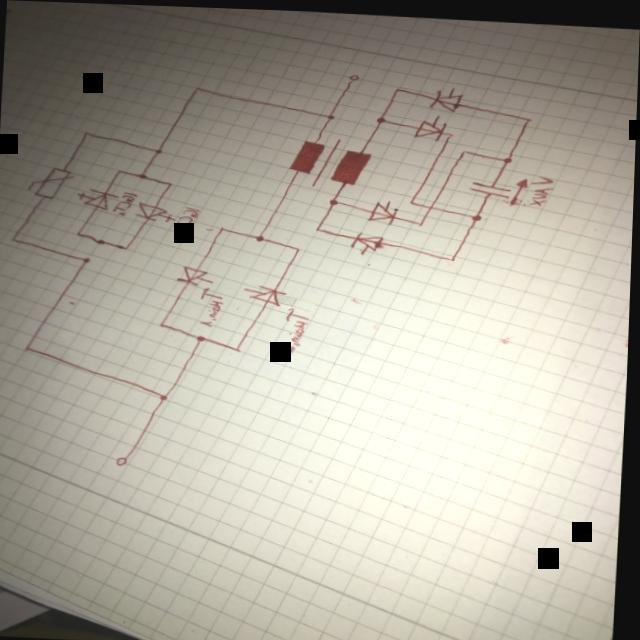capacitor: (466, 176, 511, 194)
crossover: (426, 201, 435, 207)
junction: (160, 391, 172, 399), (470, 209, 482, 217), (501, 152, 512, 160), (375, 112, 386, 120), (254, 232, 264, 240), (81, 255, 92, 262), (197, 333, 207, 340), (328, 195, 338, 202), (120, 242, 130, 249), (23, 344, 33, 350), (137, 171, 147, 177), (524, 112, 532, 119), (415, 217, 424, 223), (159, 320, 167, 326), (235, 344, 243, 350), (326, 110, 334, 116), (154, 146, 162, 152), (81, 129, 89, 135), (74, 230, 82, 236), (407, 196, 415, 202), (295, 243, 302, 249), (449, 252, 456, 258), (393, 83, 400, 89), (192, 84, 199, 90), (115, 167, 122, 173), (446, 128, 452, 135), (167, 179, 173, 185), (218, 224, 225, 229), (314, 224, 321, 229), (460, 145, 467, 150), (10, 236, 17, 241)
terminal: (115, 455, 130, 465), (346, 70, 358, 80)
text: (276, 303, 312, 351), (199, 285, 225, 325), (172, 204, 201, 236), (528, 170, 554, 202), (111, 189, 138, 215)
thyristor: (78, 186, 118, 209), (248, 281, 287, 304), (427, 85, 462, 109), (366, 196, 397, 222), (134, 200, 172, 221), (175, 262, 208, 284), (350, 227, 382, 249), (413, 116, 445, 138)
transformer: (285, 132, 372, 186)
